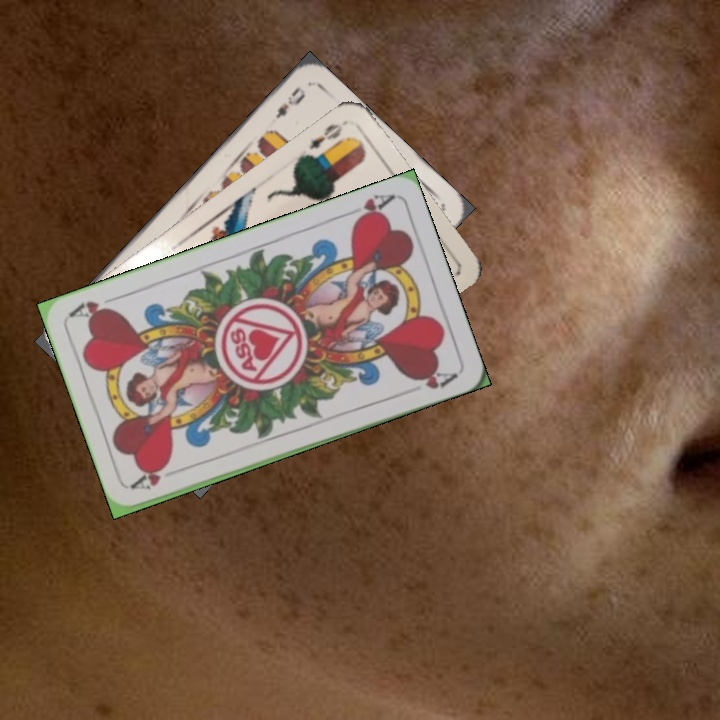E9: (271, 82, 308, 121)
EO: (305, 117, 349, 153)
HA: (339, 189, 396, 226), (128, 462, 185, 493)
